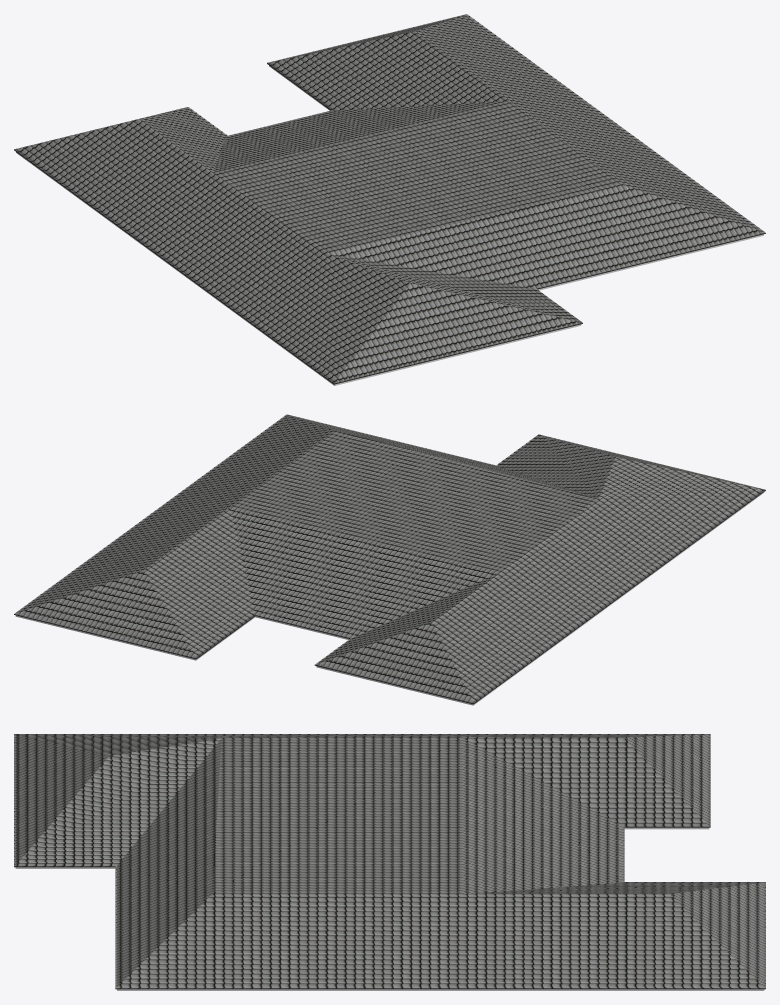
Rendered from ROOF_1.fbx.
3 renders of one model, top to bottom at view 1: azimuth 30°, elevation 25°; view 2: azimuth 150°, elevation 25°; view 3: azimuth 270°, elevation 25°, orthographic. The views are drawn at different scales.
Visible parts, largest first — view 1: Plane; view 2: Plane; view 3: Plane.
Part boxes in pixels (<box>): Plane: <box>14,14,765,385</box>; Plane: <box>14,414,765,705</box>; Plane: <box>14,734,765,990</box>.
Bounding box in the file's own units: 3194 × 268 × 3995.
